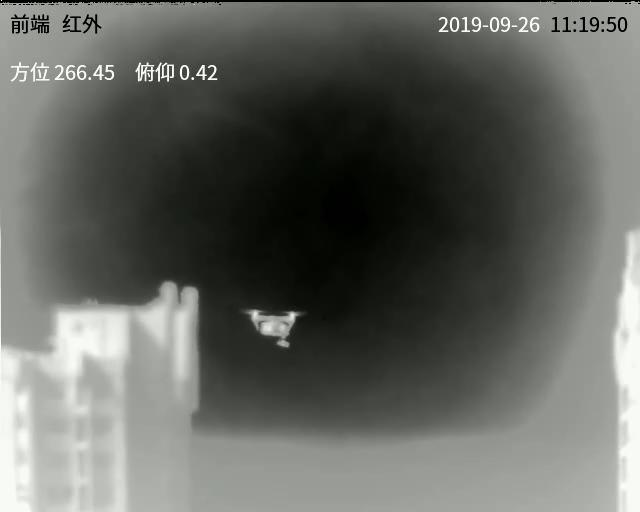uav: (239, 301, 306, 352)
